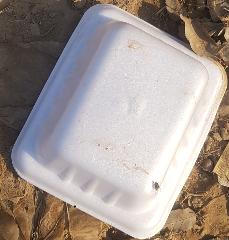general: (10, 4, 228, 238)
